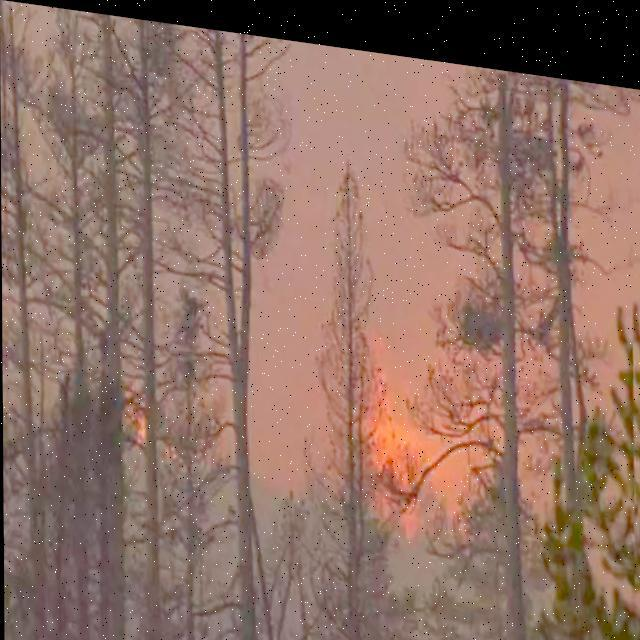Fire: (362, 333, 466, 540), (122, 380, 144, 444)
